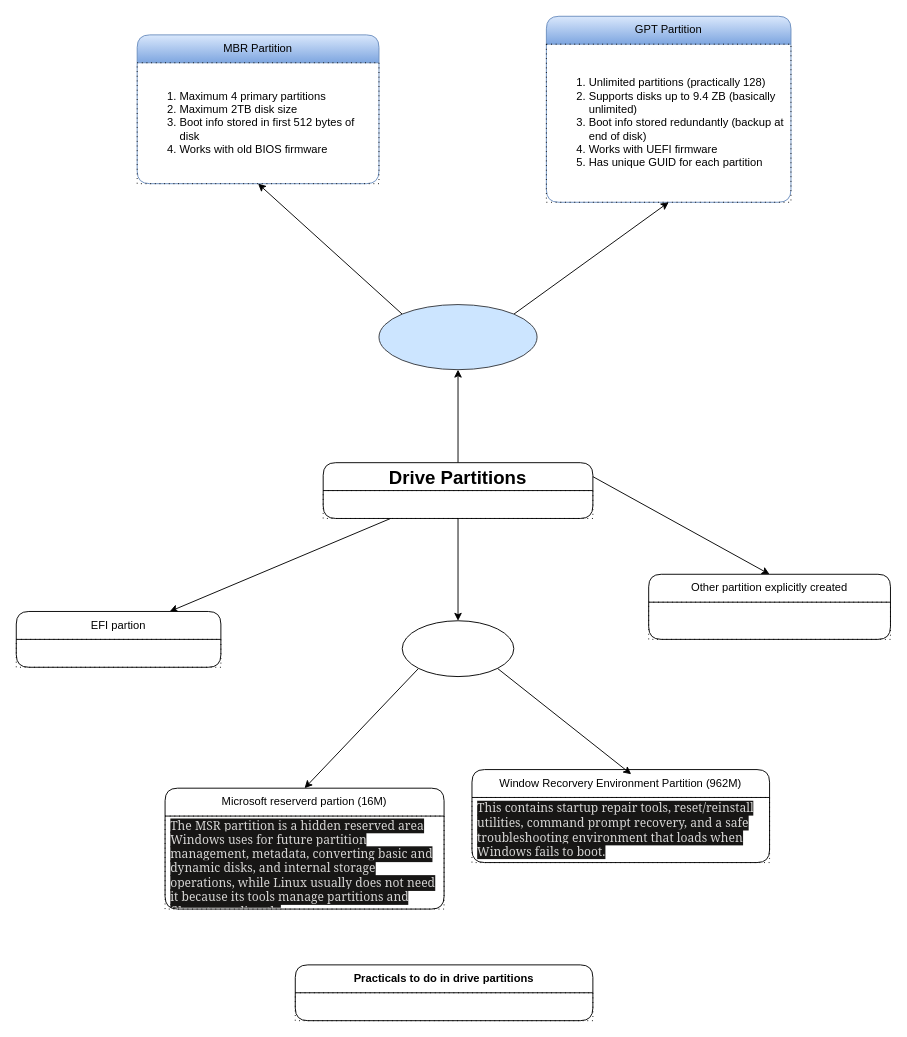
Image size: 907x1037. Some labels were removed from this diagram. Each missing label, with the centre of its shape:
1. CRUD operation of SSD related to partitioning SSD: point 443,1006
1. Partition that we create like for different OSes or for other purpose: point 769,620
Type of Partitions: point 457,337
Window related parttions: point 457,648
